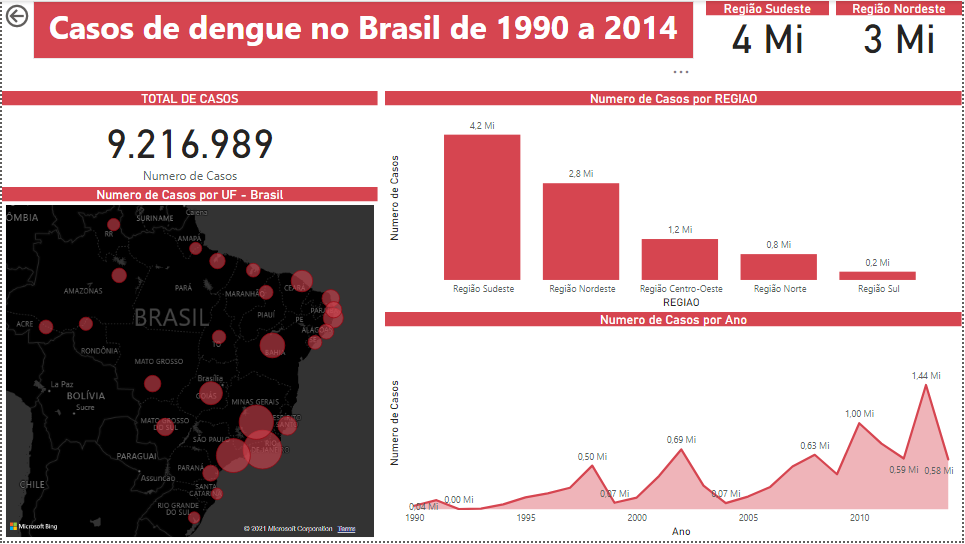

This screenshot's page, from the dashboard's own definition file:
{"tool":"powerbi","page":{"name":"Página 1","canvas":[1280,720],"ordinal":0},"visuals":[{"type":"card","title":"TOTAL DE CASOS","fields":{"Values":["Sum(FATO_DENGUE.Numero de Casos)"]},"box":[0,119.7,501,128],"z":0},{"type":"actionButton","box":[0,0,100,40],"z":1000},{"type":"card","fields":{"Values":["Sum(FATO_DENGUE.Numero de Casos)"]},"box":[938.7,0,163.8,88.1],"z":2000},{"type":"card","fields":{"Values":["Sum(FATO_DENGUE.Numero de Casos)"]},"box":[1112.1,0,167.9,88.1],"z":3000},{"type":"clusteredColumnChart","fields":{"Y":["Sum(FATO_DENGUE.Numero de Casos)"],"Category":["FATO_DENGUE.REGIAO"]},"box":[510.6,119.7,769.4,294.5],"z":4000},{"type":"areaChart","fields":{"Category":["FATO_DENGUE.Ano"],"Y":["Sum(FATO_DENGUE.Numero de Casos)"]},"box":[510.6,414.3,769.4,305.5],"z":5000},{"type":"map","fields":{"Size":["Sum(FATO_DENGUE.Numero de Casos)"],"Category":["FATO_DENGUE.UF - Brasil"]},"box":[0,247.7,501,472.1],"z":5001},{"type":"textbox","box":[41.3,0,880.9,77.1],"z":5002}]}

Visuals, with their boxes in screenshot pixels (x1, y1, x2, y2):
"TOTAL DE CASOS" card: 0,89,372,184
actionButton: 0,0,74,30
card - Sum(FATO_DENGUE.Numero de Casos): 698,0,820,66
card - Sum(FATO_DENGUE.Numero de Casos): 827,0,952,66
clusteredColumnChart - Sum(FATO_DENGUE.Numero de Casos) x FATO_DENGUE.REGIAO: 380,89,952,308
areaChart - FATO_DENGUE.Ano x Sum(FATO_DENGUE.Numero de Casos): 380,308,952,535
map - Sum(FATO_DENGUE.Numero de Casos) x FATO_DENGUE.UF - Brasil: 0,184,372,535
textbox: 31,0,686,57
